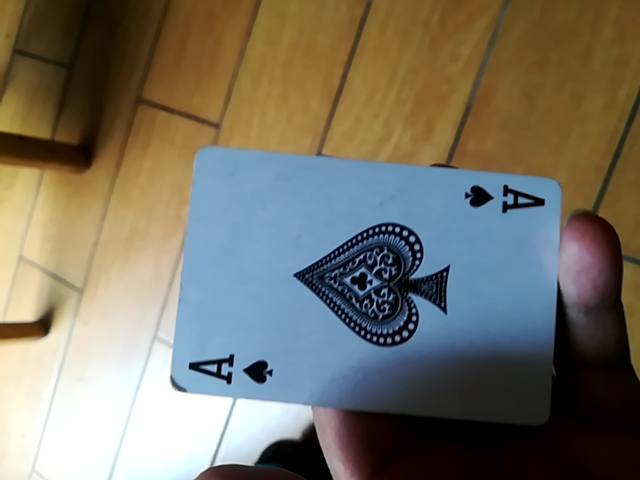ht a: (171, 152, 566, 427)
